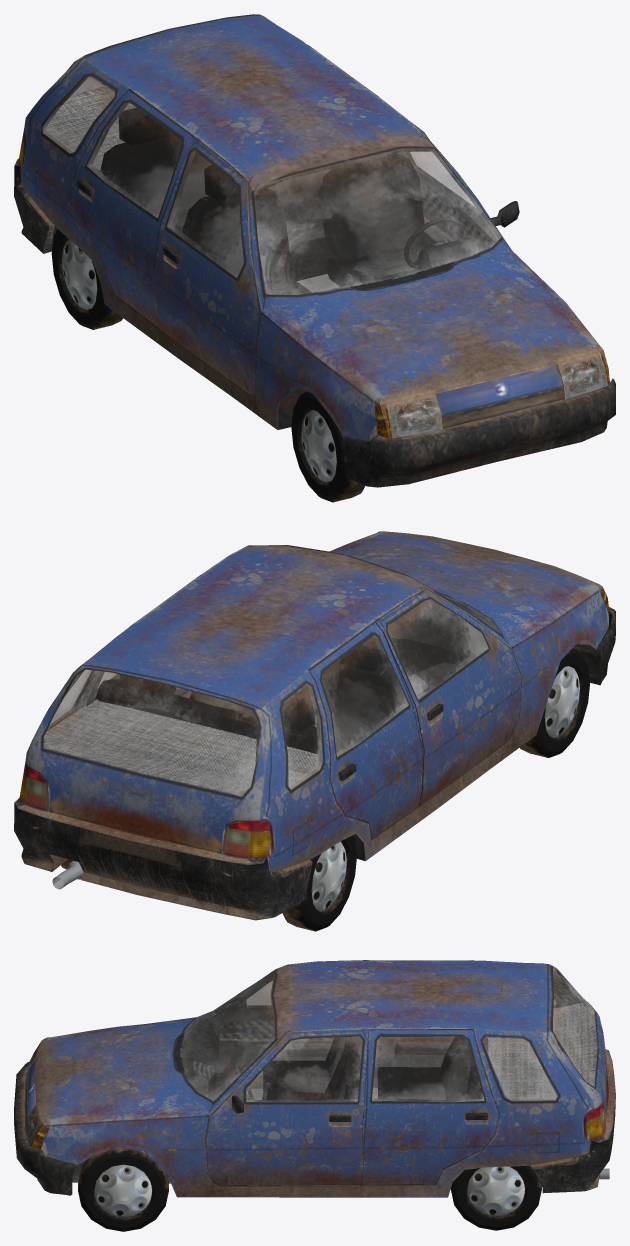
Rendered from TownHatch.glb.
3 renders of one model, top to bottom at view 1: azimuth 30°, elevation 25°; view 2: azimuth 150°, elevation 25°; view 3: azimuth 270°, elevation 25°, orthographic. The views are drawn at different scales.
Parts seen in each view (by area): view 1: Plane, glass.003, glass.004, Cylinder.002, Cube.001, Cylinder.003; view 2: Plane, glass.003, glass.004, Cylinder.002, Cylinder.003; view 3: Plane, Cube.001, Cube.006, Cylinder, glass.003, Cylinder.001, glass.004.
Boxes of the visible parts, bbox=[...] form: Plane: bbox=[14, 14, 615, 487]; glass.003: bbox=[154, 137, 261, 396]; glass.004: bbox=[73, 88, 194, 326]; Cylinder.002: bbox=[291, 391, 367, 502]; Cube.001: bbox=[401, 121, 511, 251]; Cylinder.003: bbox=[51, 229, 122, 329]; Plane: bbox=[14, 531, 615, 920]; glass.003: bbox=[374, 589, 522, 806]; glass.004: bbox=[307, 622, 423, 839]; Cylinder.002: bbox=[520, 647, 590, 757]; Cylinder.003: bbox=[282, 835, 356, 931]; Plane: bbox=[14, 960, 615, 1197]; Cube.001: bbox=[204, 1029, 368, 1185]; Cube.006: bbox=[362, 1029, 498, 1185]; Cylinder: bbox=[78, 1147, 168, 1231]; glass.003: bbox=[213, 960, 369, 1088]; Cylinder.001: bbox=[450, 1165, 541, 1230]; glass.004: bbox=[367, 960, 473, 1087].
Bounding box in the file's own units: 139 × 114 × 320.
6 materials, 6 textured.
